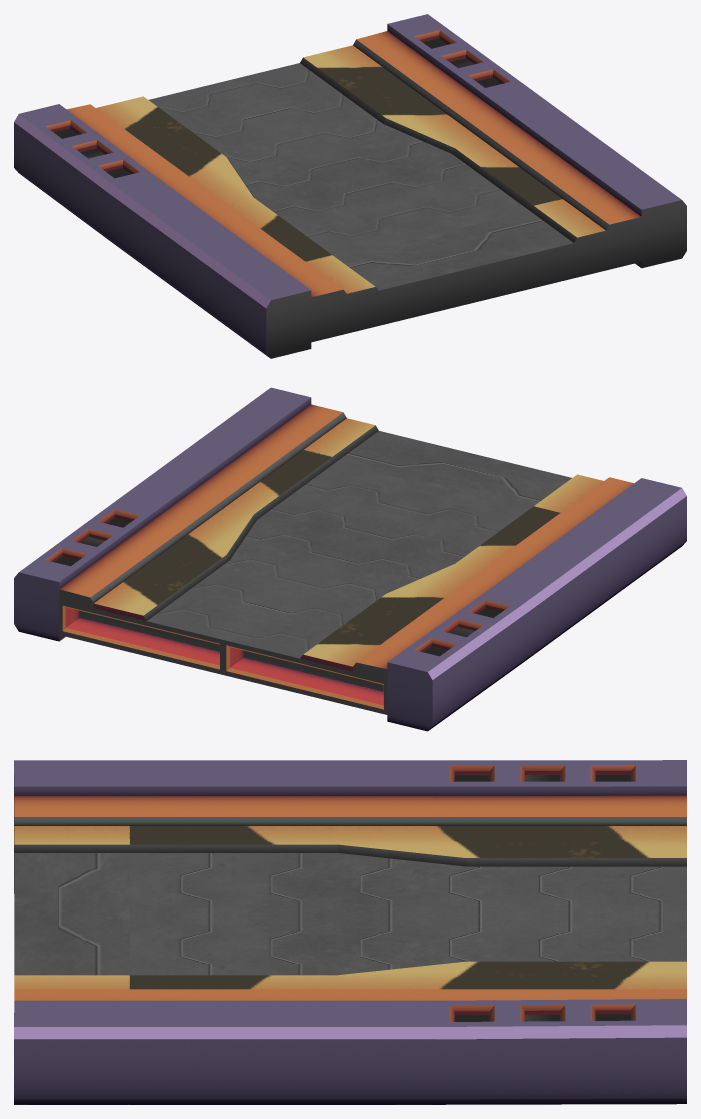
File: Entrance_Platform.glb
The picture shows the model from 3 angles, top to bottom: view 1: azimuth 30°, elevation 25°; view 2: azimuth 150°, elevation 25°; view 3: azimuth 270°, elevation 25°; orthographic projection. The views are drawn at different scales.
Visible parts, largest first — view 1: Corridor_floor_1; view 2: Corridor_floor_1; view 3: Corridor_floor_1.
Part boxes in pixels (bbox=[...]): Corridor_floor_1: bbox=[14, 14, 686, 358]; Corridor_floor_1: bbox=[14, 387, 686, 731]; Corridor_floor_1: bbox=[14, 760, 686, 1104].
Bounding box in the file's own units: 1.16 × 0.1562 × 1.21.
Materials: 1 (1 with a texture image).
